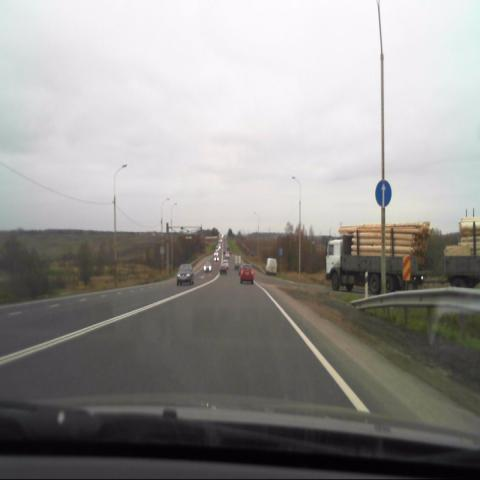4_1_1: (374, 178, 393, 210)
